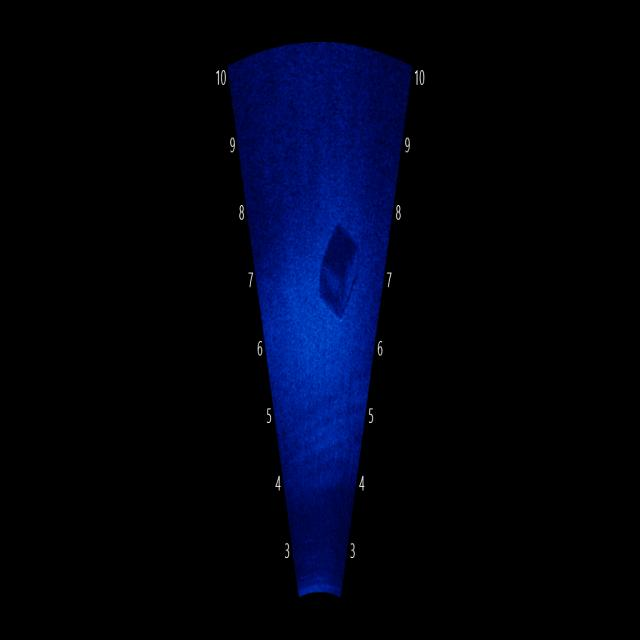square: (312, 211, 369, 325)
